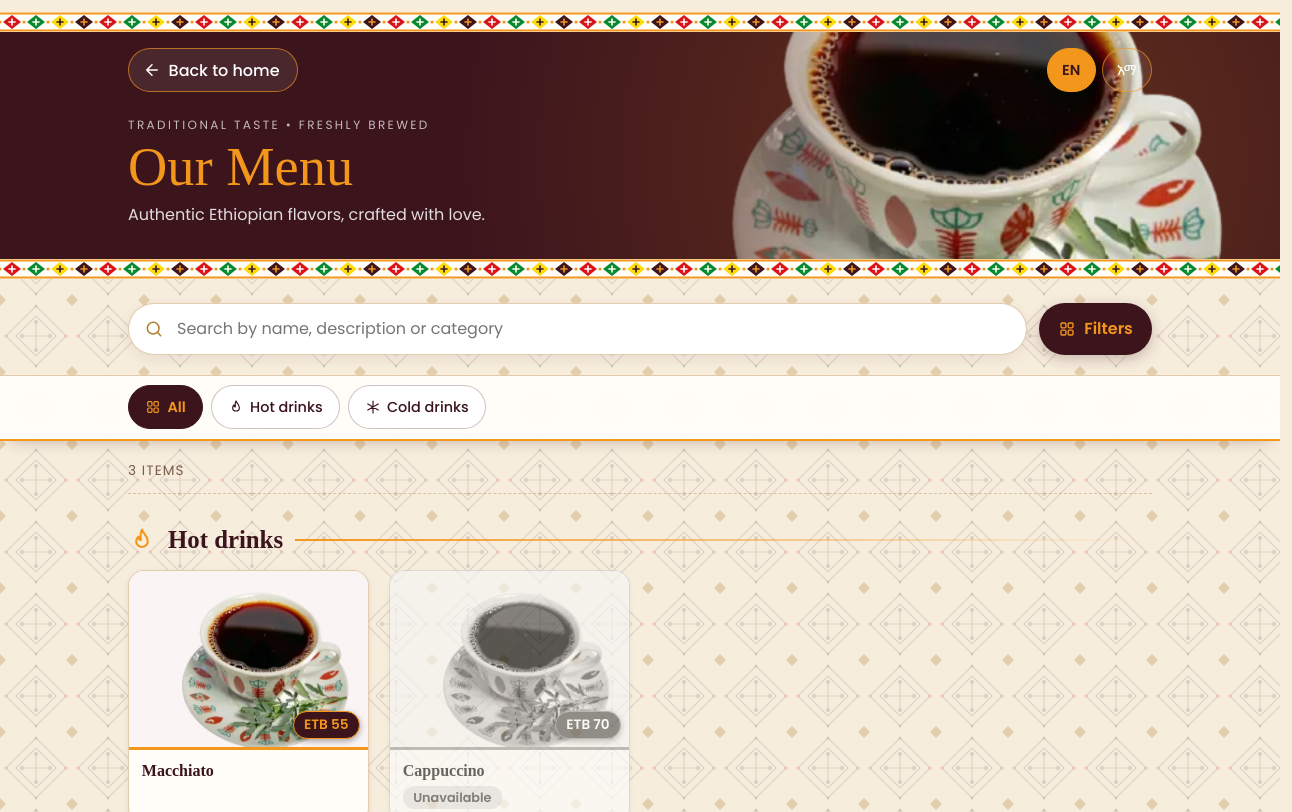
Test: MenuPage filters › filters by the search text
This screenshot has width=1292, height=812.
Type "avocado" into the search field named "Search the menu" at (578, 329), box x1=128 y1=303 x2=1027 y2=355
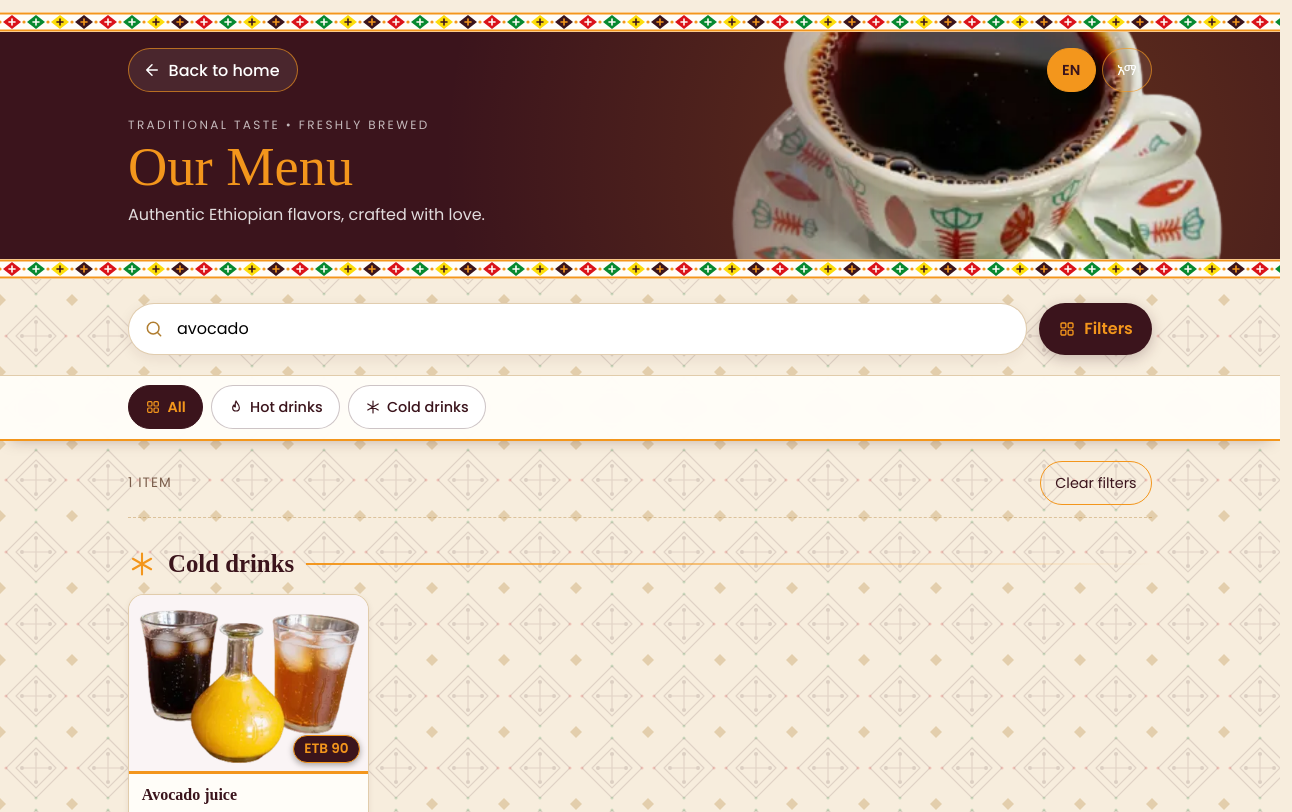
Expected: the heading "Avocado juice" is shown, x1=142 y1=786 x2=237 y2=804
Expected: the heading "Macchiato" is gone
